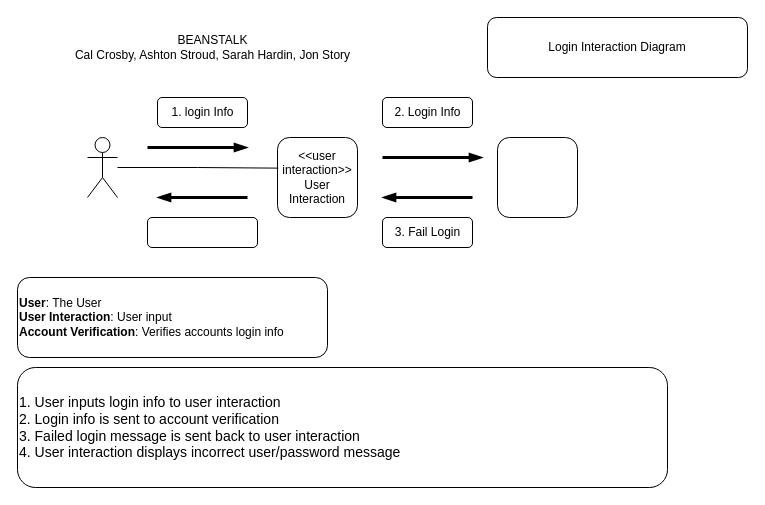
The diagram is 765 pixels wide and 505 high, and some of its shapes have lost their labels. The box of each missing label's shape, as (x1, y1, x2, y2) in pixels:
4. Allow Access: (146, 216, 258, 248)
<<entity>> Account Verification: (496, 136, 578, 218)
User: (86, 136, 118, 198)
